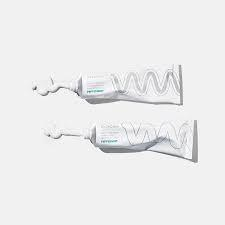toothpaste: (79, 116, 202, 163), (66, 59, 193, 103)
